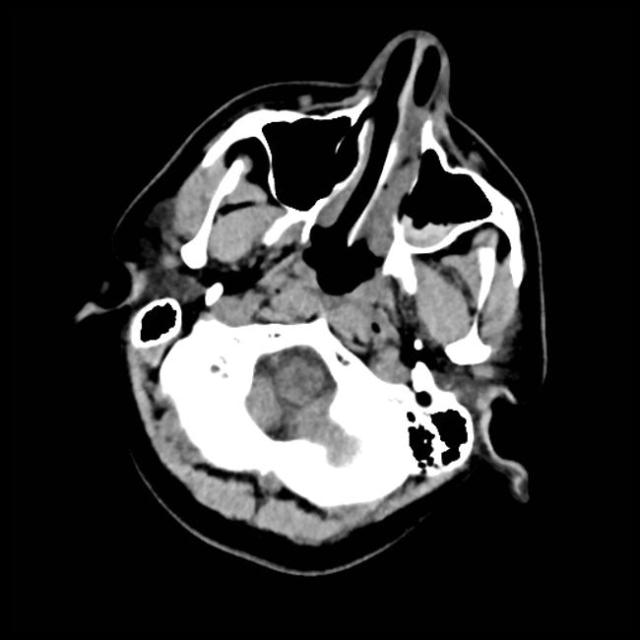lesion: (76, 28, 552, 569)
